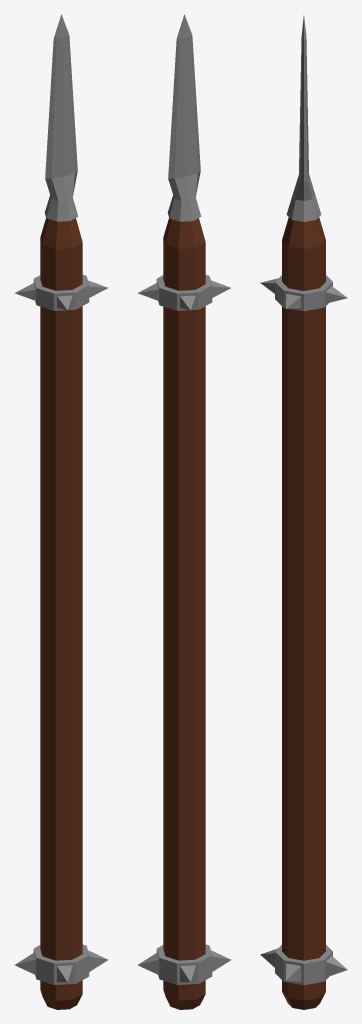
File: Warrior Spear.fbx
The picture shows the model from 3 angles, left to right: view 1: azimuth 30°, elevation 25°; view 2: azimuth 210°, elevation 25°; view 3: azimuth 270°, elevation 25°; orthographic projection.
Visible parts, largest first — view 1: Circle; view 2: Circle; view 3: Circle.
Boxes of the visible parts, x1,y1,x2,y2 form: Circle: (14, 14, 108, 1009); Circle: (137, 14, 231, 1009); Circle: (260, 15, 347, 1009).
Size of the model in its own units: 0.6874 by 0.6874 by 8.54.
